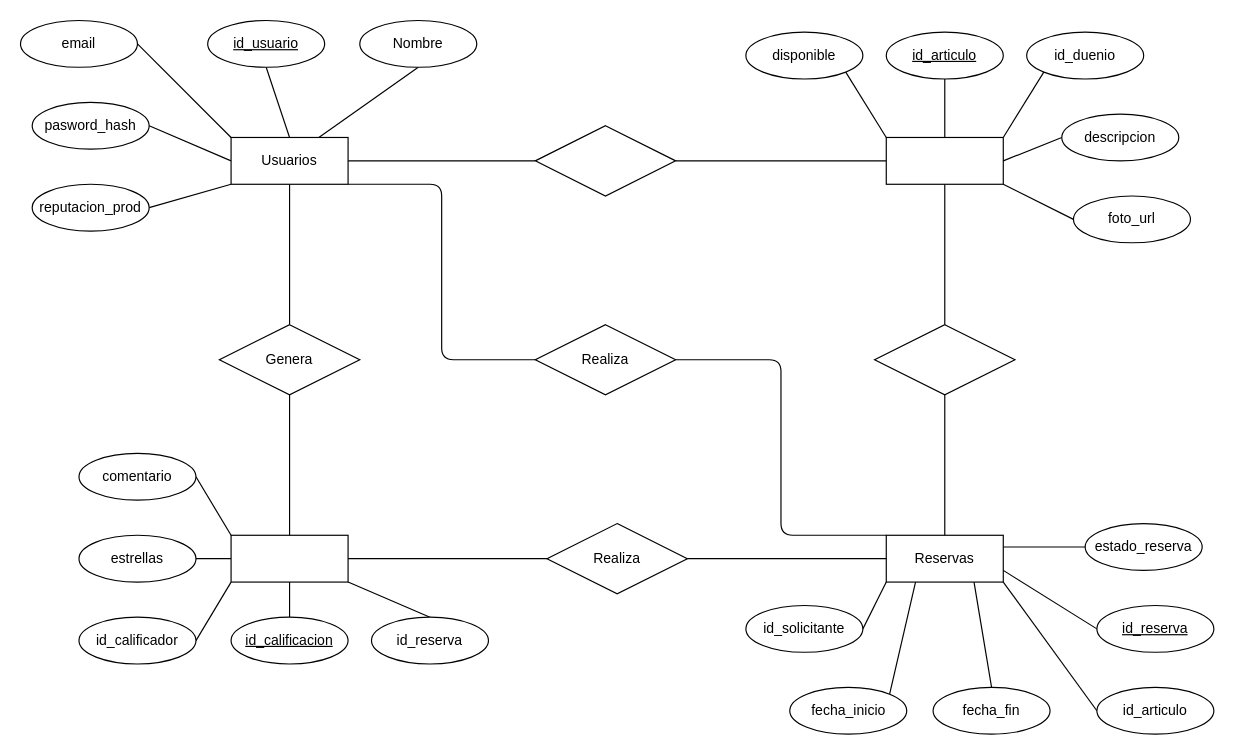
This 1234x755 diagram has some shape labels left out. The centre of each missing label's shape, as x and y in pixels:
Articulos: the point at 944,160
Calificaciones: the point at 289,558
Registra: the point at 605,160
Tiene: the point at 944,359
